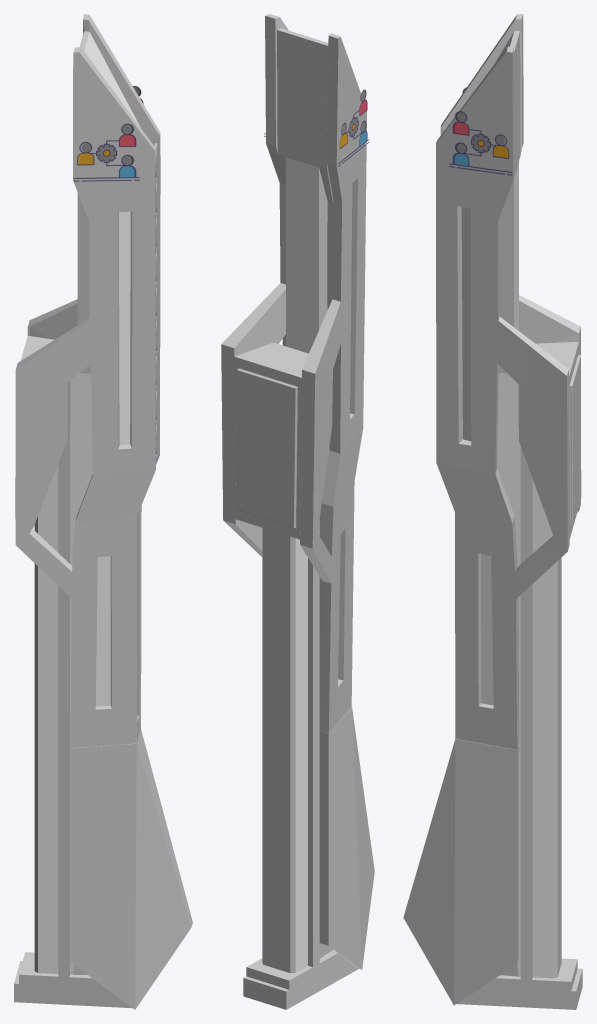
The model's file is therteen building.glb.
The picture shows the model from 3 angles, left to right: view 1: azimuth 90°, elevation 25°; view 2: azimuth 150°, elevation 25°; view 3: azimuth 270°, elevation 25°; orthographic projection.
Visible parts, largest first — view 1: Plane_Plane.002, 2720646.001; view 2: Plane_Plane.002, 2720646.001; view 3: Plane_Plane.002, 2720646.
Part boxes in pixels (box(x1,y1,x2,y2)): Plane_Plane.002: box(14, 14, 192, 1009); 2720646.001: box(73, 123, 139, 181); Plane_Plane.002: box(221, 14, 374, 1009); 2720646.001: box(338, 89, 368, 166); Plane_Plane.002: box(403, 14, 582, 1009); 2720646: box(449, 111, 512, 175).
Size of the model in its own units: 1.66 by 15.01 by 2.53.
4 materials, 2 textured.
